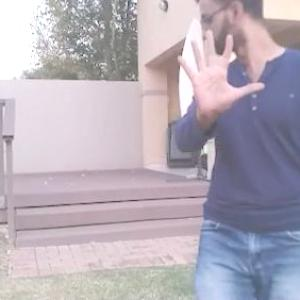follow_hand: (172, 24, 264, 117)
